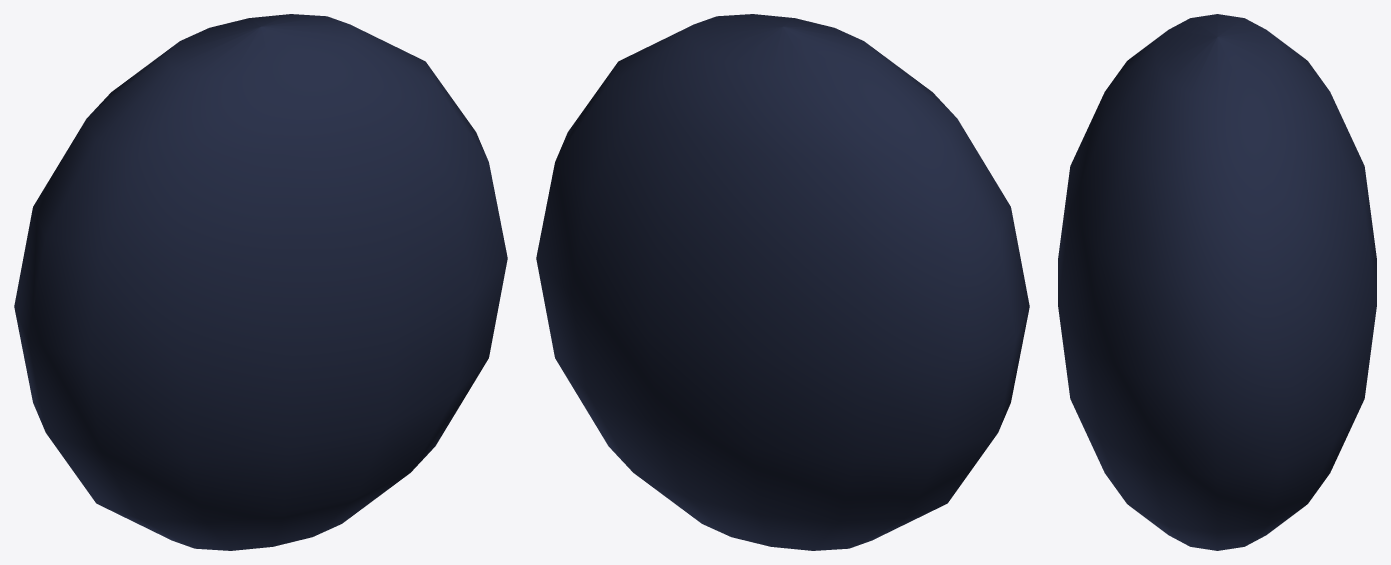
File: spine.obj
The picture shows the model from 3 angles, left to right: view 1: azimuth 30°, elevation 25°; view 2: azimuth 150°, elevation 25°; view 3: azimuth 270°, elevation 25°; orthographic projection. The views are drawn at different scales.
Parts seen in each view (by area): view 1: spine; view 2: spine; view 3: spine.
Part boxes in pixels (bbox=[...]): spine: bbox=[14, 14, 507, 550]; spine: bbox=[536, 14, 1029, 550]; spine: bbox=[1058, 14, 1376, 550].
Size of the model in its own units: 0.3425 by 0.3594 by 0.2115.
